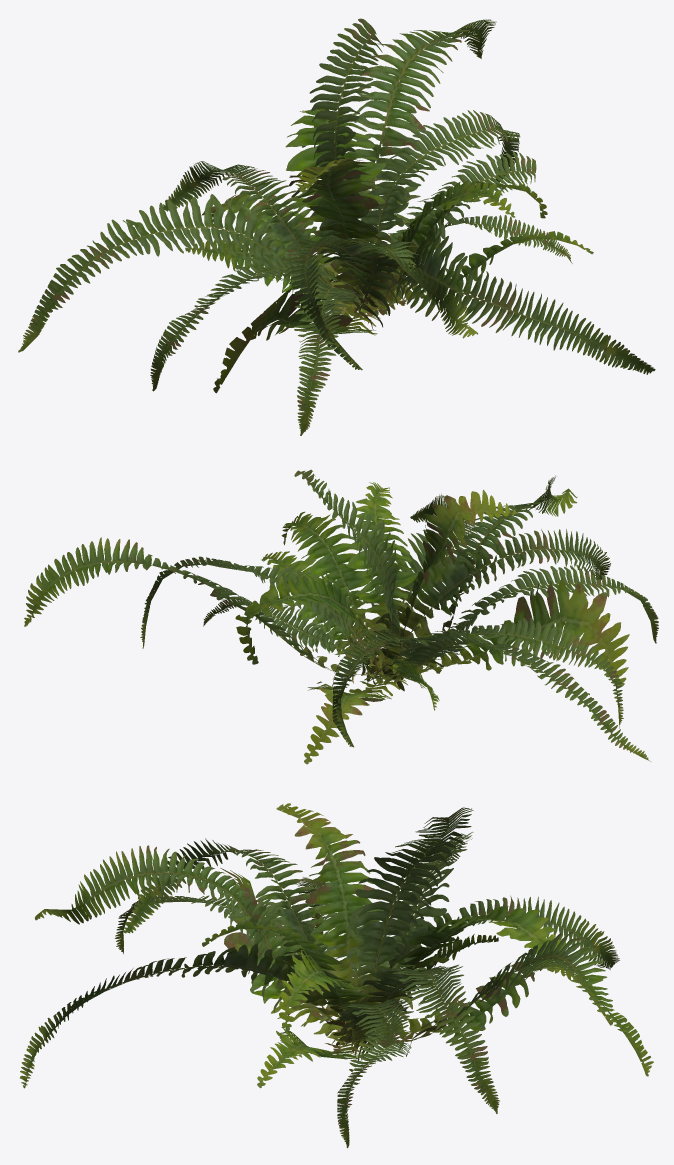
Rendered from naturalFern.glb.
3 renders of one model, top to bottom at view 1: azimuth 30°, elevation 25°; view 2: azimuth 150°, elevation 25°; view 3: azimuth 270°, elevation 25°, orthographic. The views are drawn at different scales.
Visible parts, largest first — view 1: fern_02_b; view 2: fern_02_b; view 3: fern_02_b.
Part boxes in pixels (x1,y1,x2,y2): fern_02_b: (18,18,655,435); fern_02_b: (24,469,658,764); fern_02_b: (20,803,653,1148).
Size of the model in its own units: 0.9897 by 0.4277 by 0.8937.
Materials: 1 (1 with a texture image).
